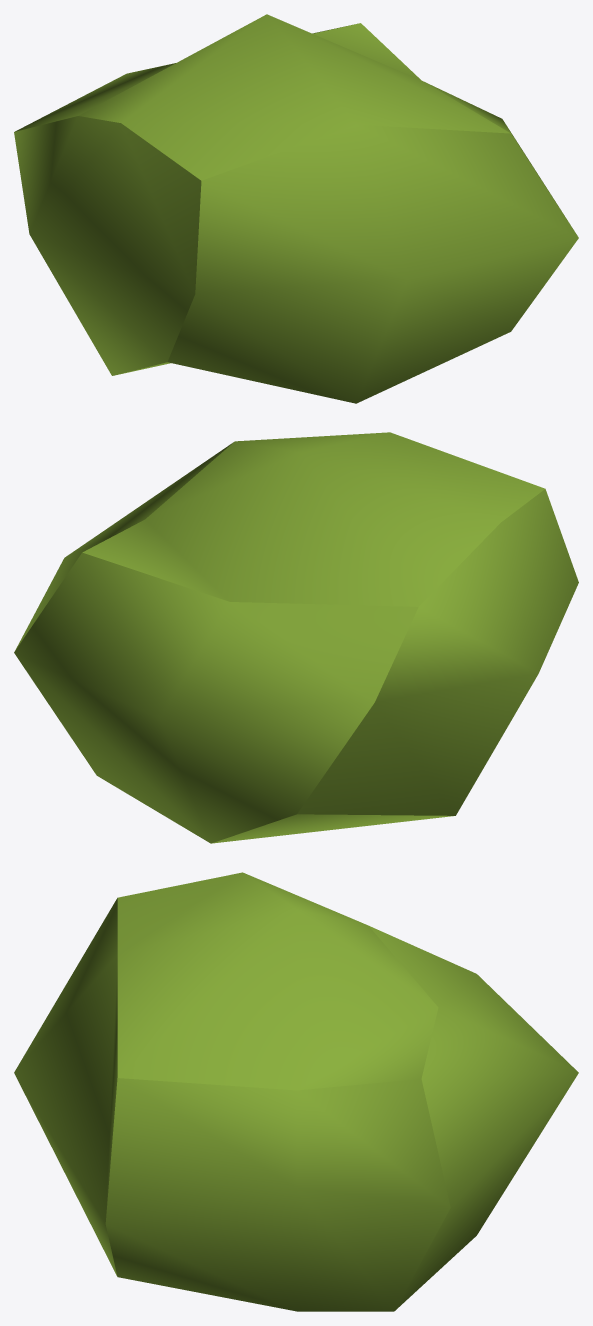
The model's file is bush1.fbx.
The picture shows the model from 3 angles, top to bottom: view 1: azimuth 30°, elevation 25°; view 2: azimuth 150°, elevation 25°; view 3: azimuth 270°, elevation 25°; orthographic projection.
Visible parts, largest first — view 1: bush1; view 2: bush1; view 3: bush1.
Boxes of the visible parts, bbox=[...] form: bush1: bbox=[14, 14, 578, 403]; bush1: bbox=[14, 432, 578, 843]; bush1: bbox=[14, 872, 578, 1311].
Bounding box in the file's own units: 153 × 101 × 157.
